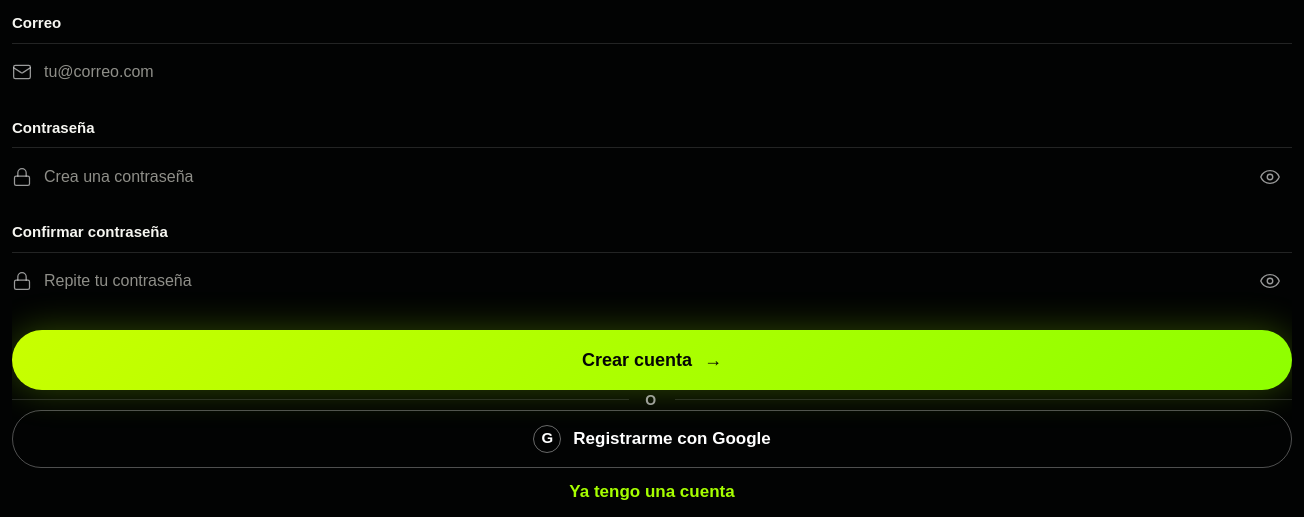
Test: RegisterForm › replaces the form with a confirmation message when the email needs confirming
Type "a@b.co" into the field labelled "Correo".
click(668, 72); type("a@b.co")  # box [44,44,1292,100]
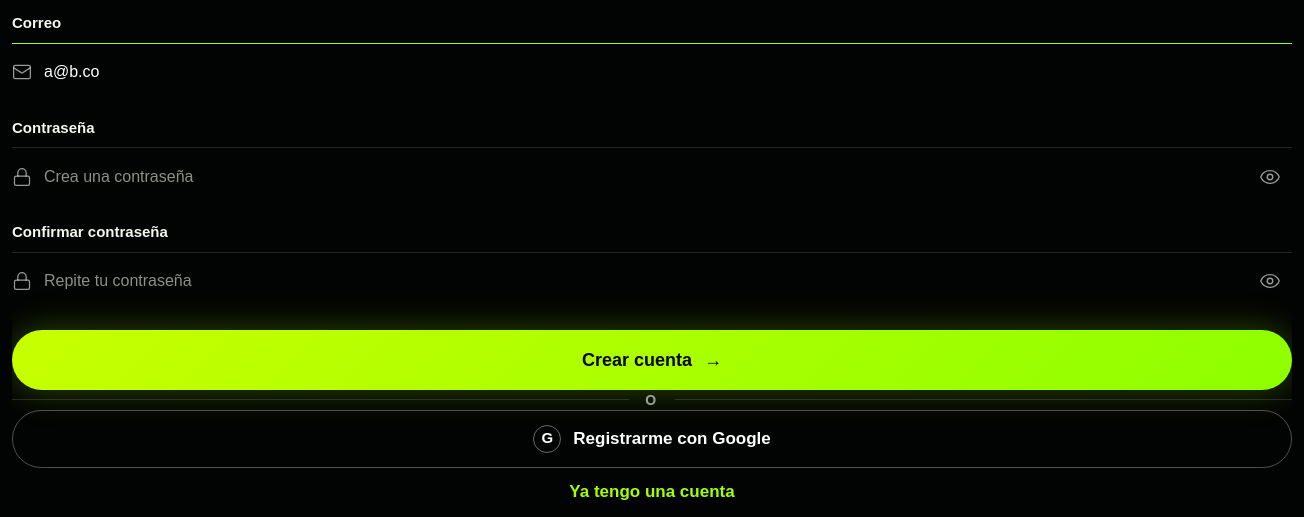
Type "secret123" into the password field labelled "Contraseña".
click(640, 176); type("secret123")  # box [44,148,1236,205]
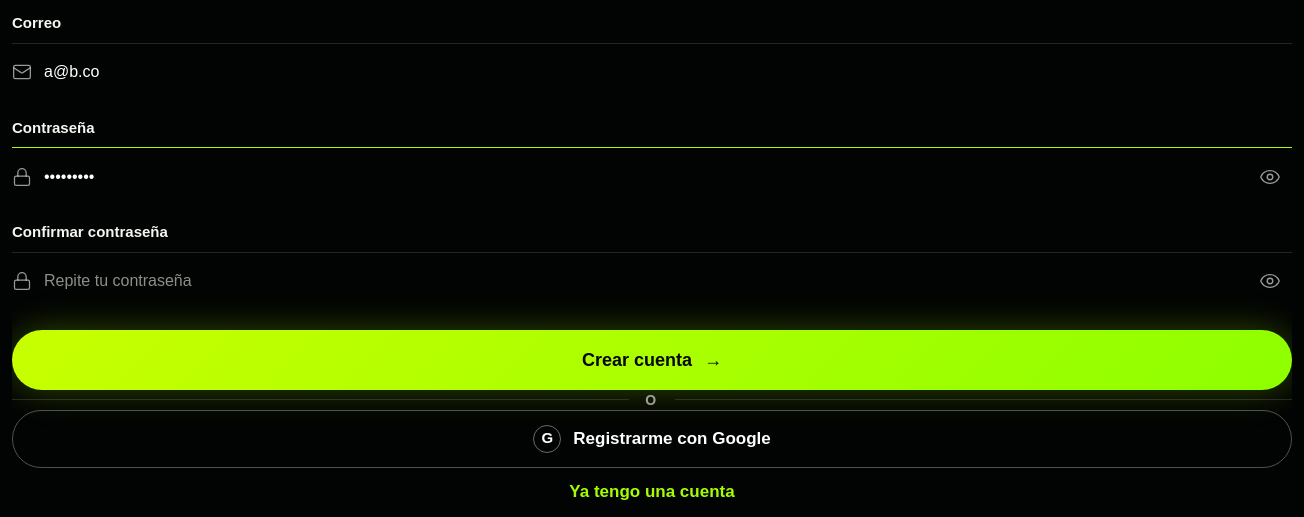
Type "secret123" into the password field labelled "Confirmar contraseña".
click(640, 281); type("secret123")  # box [44,252,1236,310]
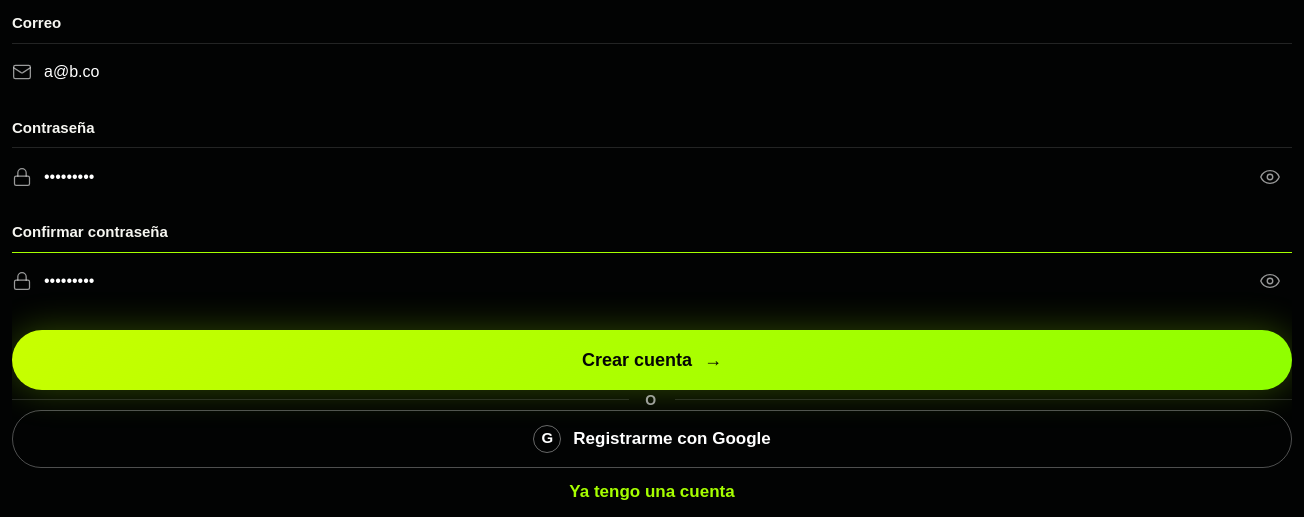
Click the button "Crear cuenta →".
click(652, 360)  # box [12,330,1292,390]
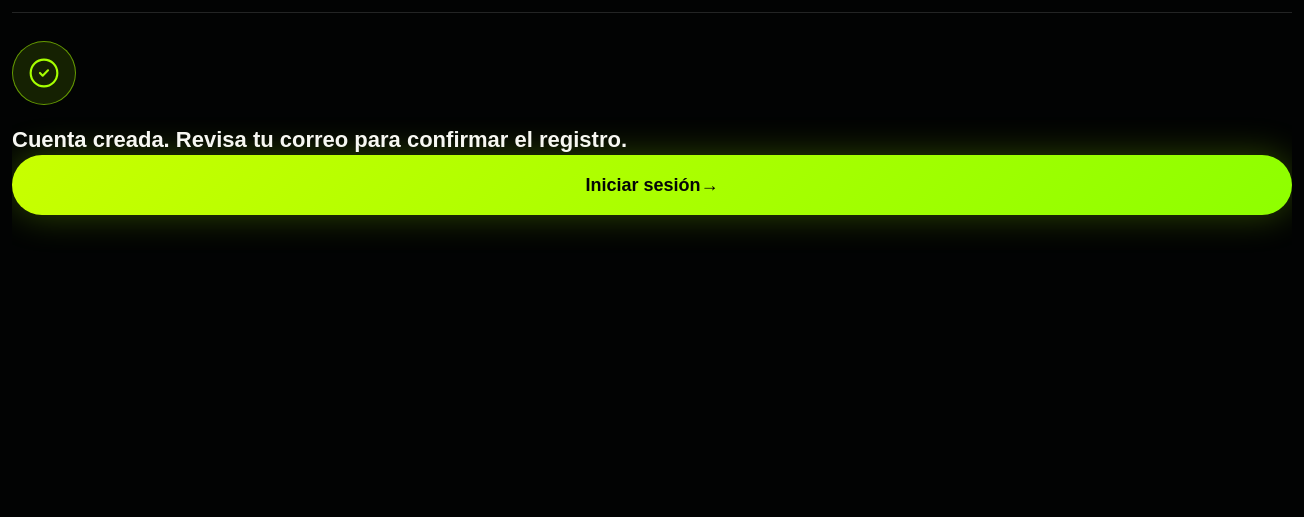
Expected: the field labelled "Correo" is not shown
Expected: the message shows "Revisa tu correo", [12,127,627,152]
